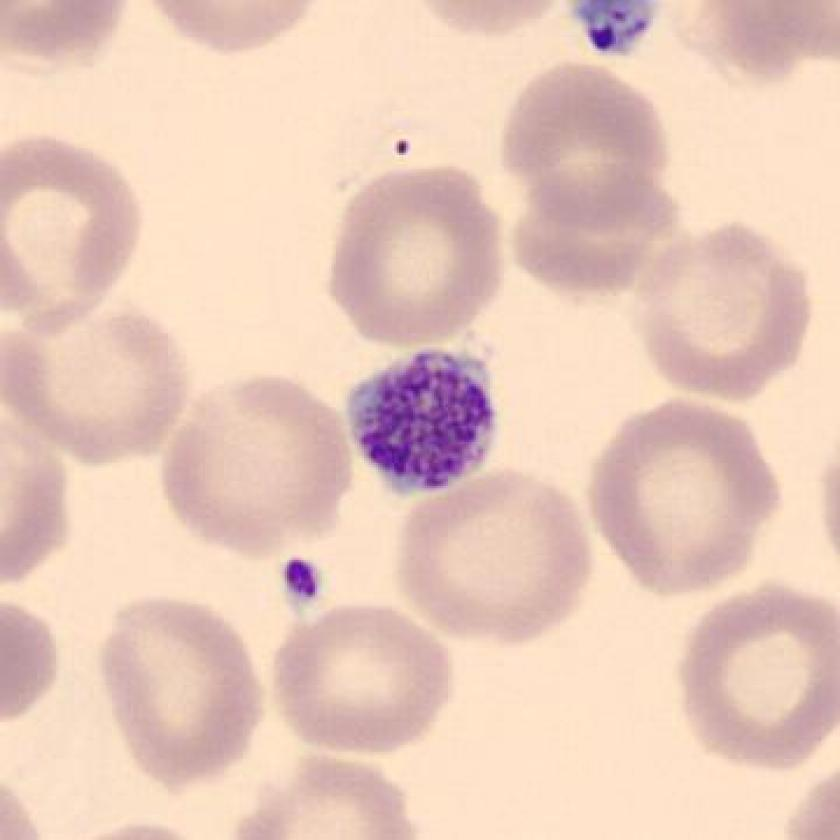platelets: (340, 335, 508, 506), (559, 1, 666, 59), (267, 547, 339, 617)
